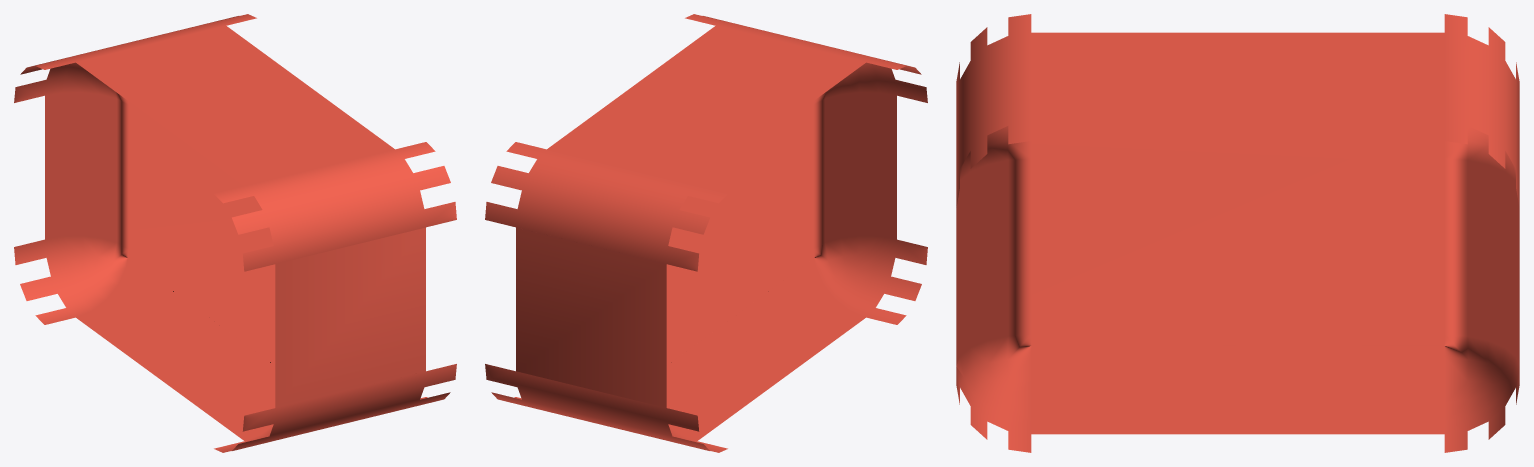
The model's file is AFJ_Block_Connector_Seamless.fbx.
The picture shows the model from 3 angles, left to right: view 1: azimuth 30°, elevation 25°; view 2: azimuth 150°, elevation 25°; view 3: azimuth 270°, elevation 25°; orthographic projection. The views are drawn at different scales.
Parts seen in each view (by area): view 1: Block_Connector_FullWidth; view 2: Block_Connector_FullWidth; view 3: Block_Connector_FullWidth.
Boxes of the visible parts, x1,y1,x2,y2 form: Block_Connector_FullWidth: (14, 14, 456, 452); Block_Connector_FullWidth: (485, 14, 927, 452); Block_Connector_FullWidth: (956, 14, 1519, 452).
Bounding box in the file's own units: 48 × 55 × 90.
